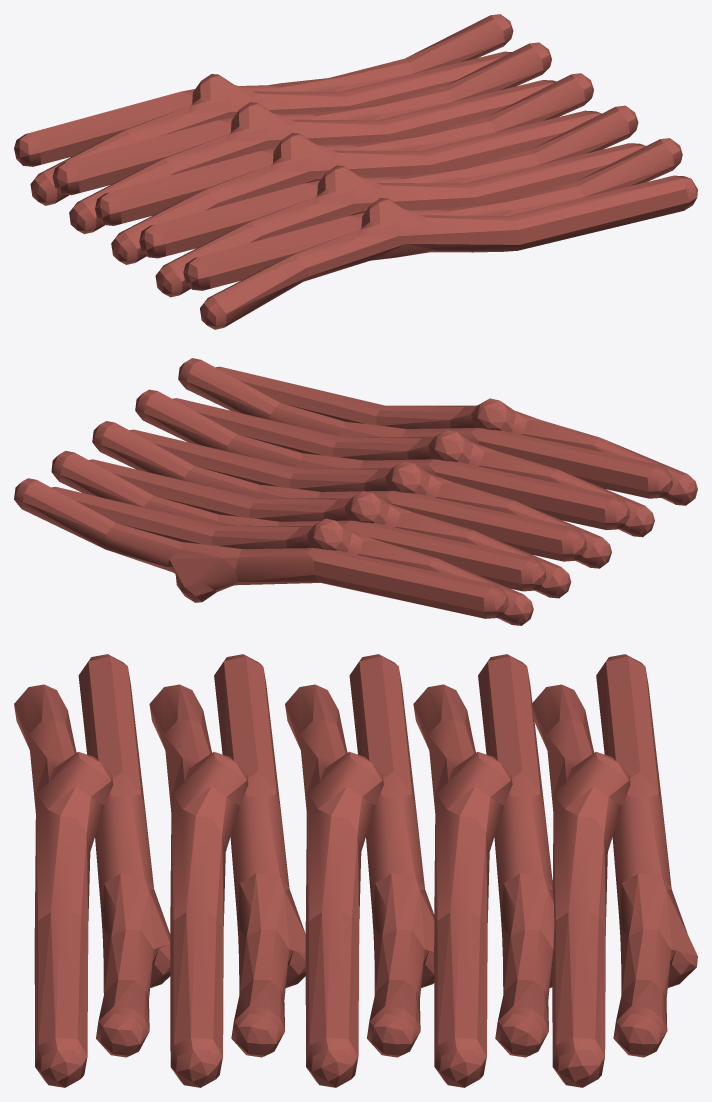
File: sennit.fbx
3 views of the same model, one above another, from view 1: azimuth 30°, elevation 25°; view 2: azimuth 150°, elevation 25°; view 3: azimuth 270°, elevation 25° (orthographic). The views are drawn at different scales.
Parts seen in each view (by area): view 1: sennit; view 2: sennit; view 3: sennit.
Boxes of the visible parts, x1,y1,x2,y2 form: sennit: (14, 14, 697, 329); sennit: (14, 358, 697, 625); sennit: (14, 654, 697, 1087).
Size of the model in its own units: 337 by 60.52 by 258.
